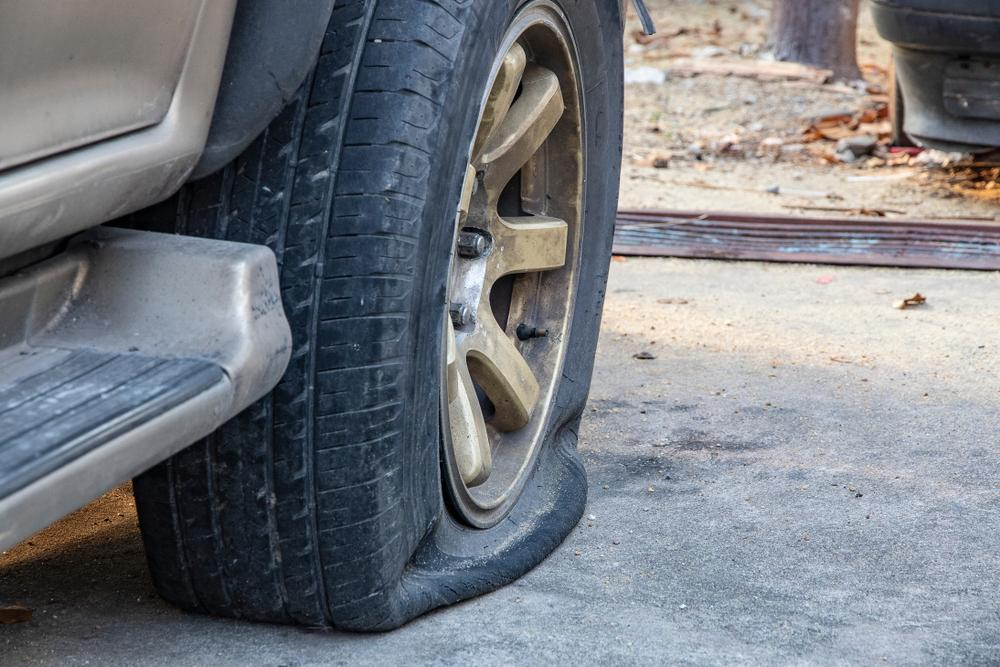tire flat: (132, 0, 623, 635)
